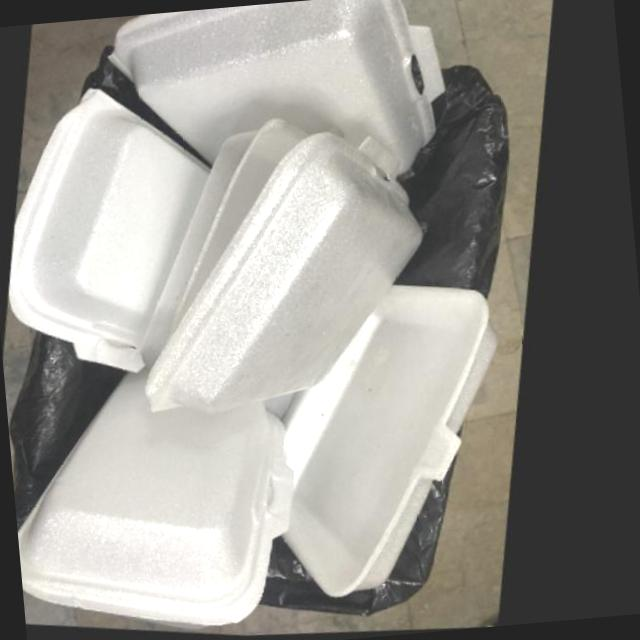xop: (149, 122, 430, 418), (19, 372, 306, 633), (293, 286, 507, 602), (111, 0, 449, 174), (15, 94, 217, 378)
